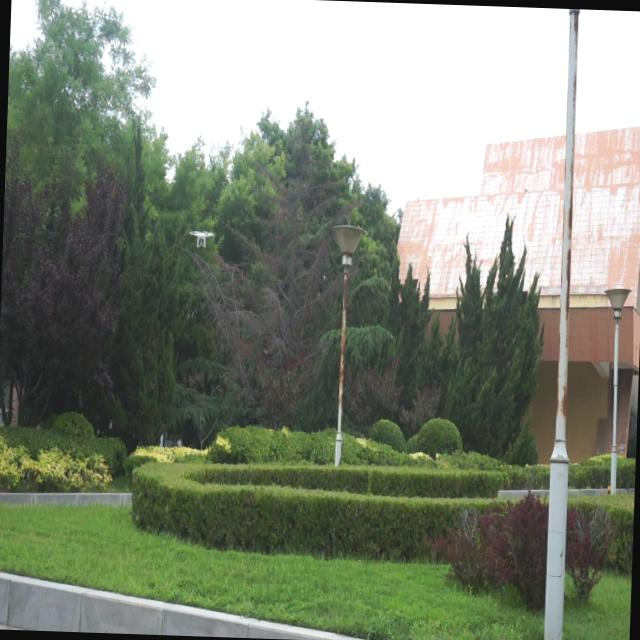drone: (188, 225, 218, 253)
